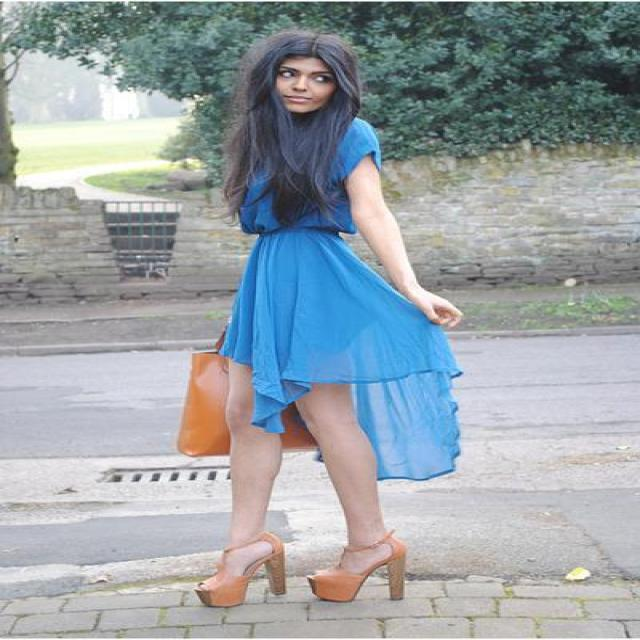bag: (178, 336, 316, 455)
dress: (219, 117, 461, 480)
shoe: (195, 528, 421, 612)
